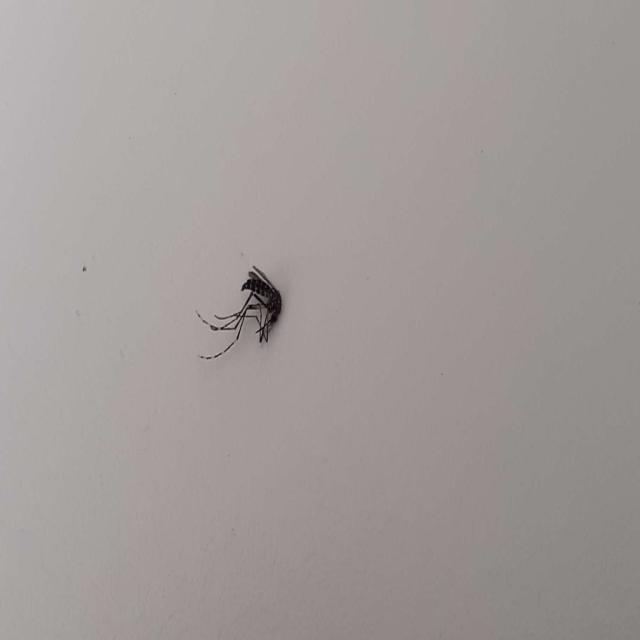albopictus: (194, 258, 285, 366)
